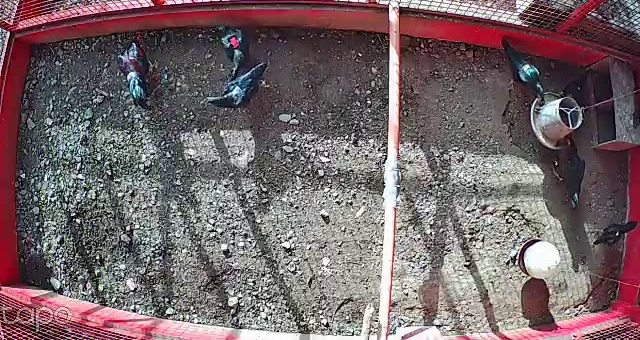Chicken: (493, 31, 548, 107), (547, 132, 592, 219), (199, 64, 277, 113), (216, 21, 251, 83), (586, 215, 639, 252), (556, 70, 592, 107)
Rooster: (112, 28, 165, 109)
Saddle_Color_Red: (230, 36, 240, 47)
Saddle_Color_YellowGreen: (518, 62, 534, 76)
